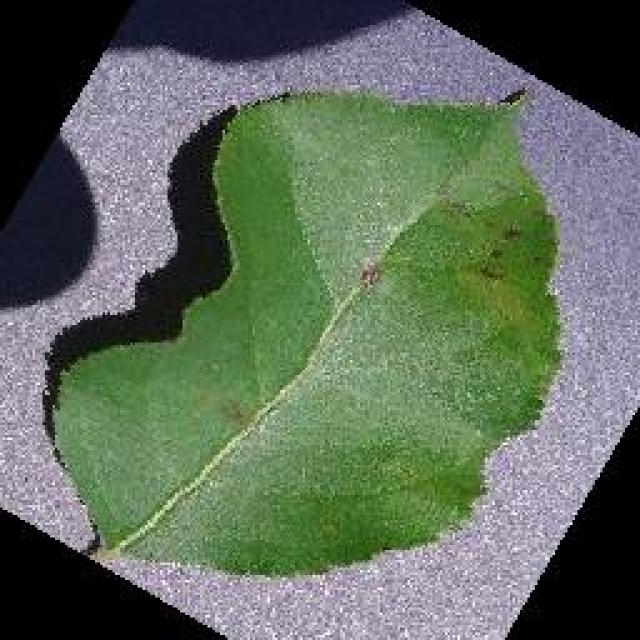apple scab disease: (40, 82, 568, 580)
